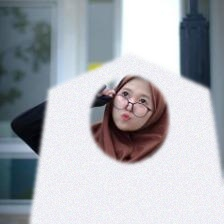Mukena: (30, 53, 224, 224)
